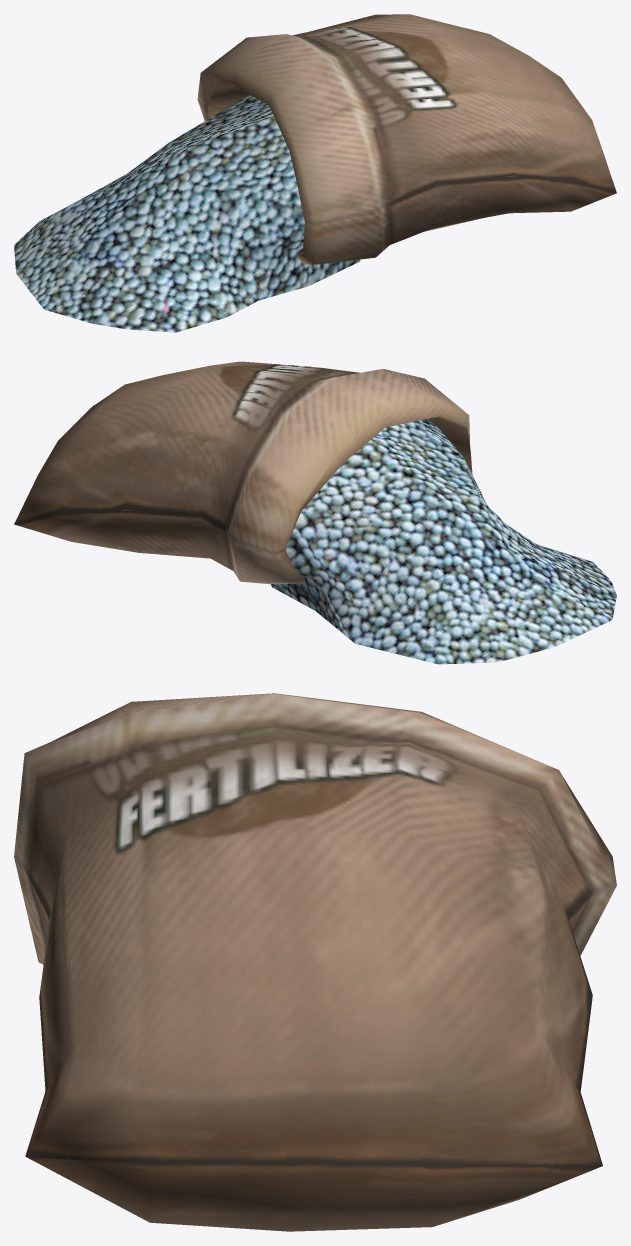
File: fertilizerBag04.fbx
The picture shows the model from 3 angles, top to bottom: view 1: azimuth 30°, elevation 25°; view 2: azimuth 150°, elevation 25°; view 3: azimuth 270°, elevation 25°; orthographic projection. The views are drawn at different scales.
Visible parts, largest first — view 1: fertilizerBag04; view 2: fertilizerBag04; view 3: fertilizerBag04.
Boxes of the visible parts, x1,y1,x2,y2 form: fertilizerBag04: [14, 14, 616, 332]; fertilizerBag04: [14, 361, 616, 664]; fertilizerBag04: [14, 693, 616, 1231].
Size of the model in its own units: 60.59 by 20.32 by 32.1.
